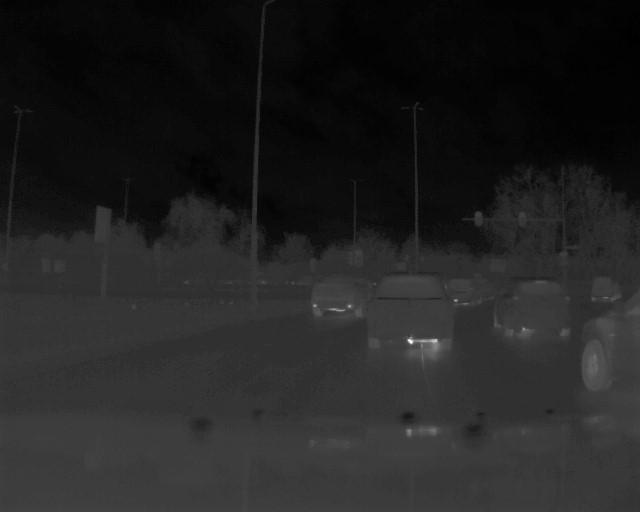car: (369, 269, 455, 352), (492, 277, 574, 342), (580, 312, 640, 393), (306, 272, 368, 318), (581, 268, 628, 302)
